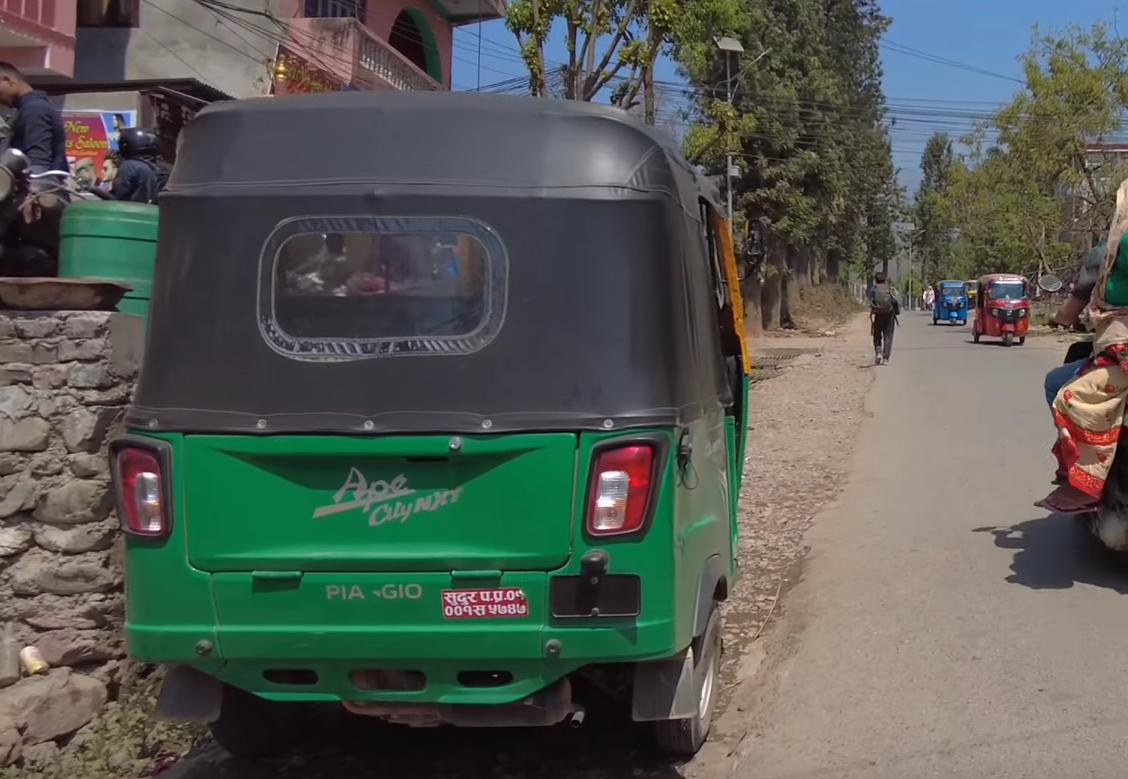auto_rickshaw: (99, 83, 766, 762), (973, 271, 1034, 356), (929, 274, 973, 333)
